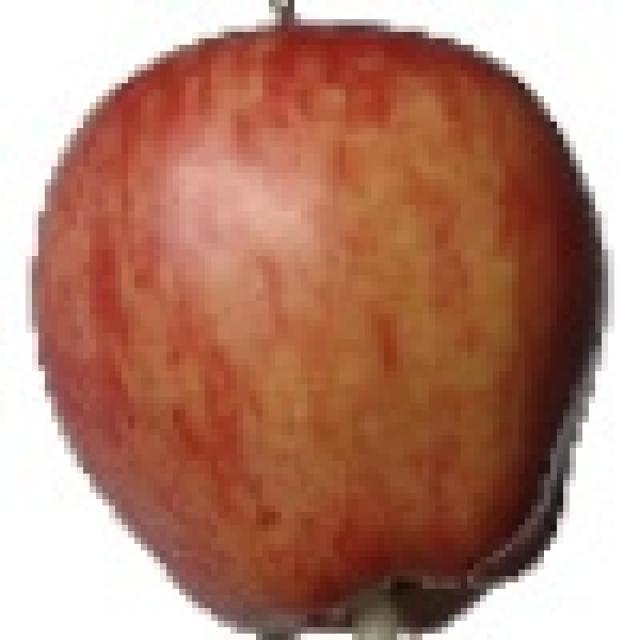apple: (28, 2, 612, 640)
